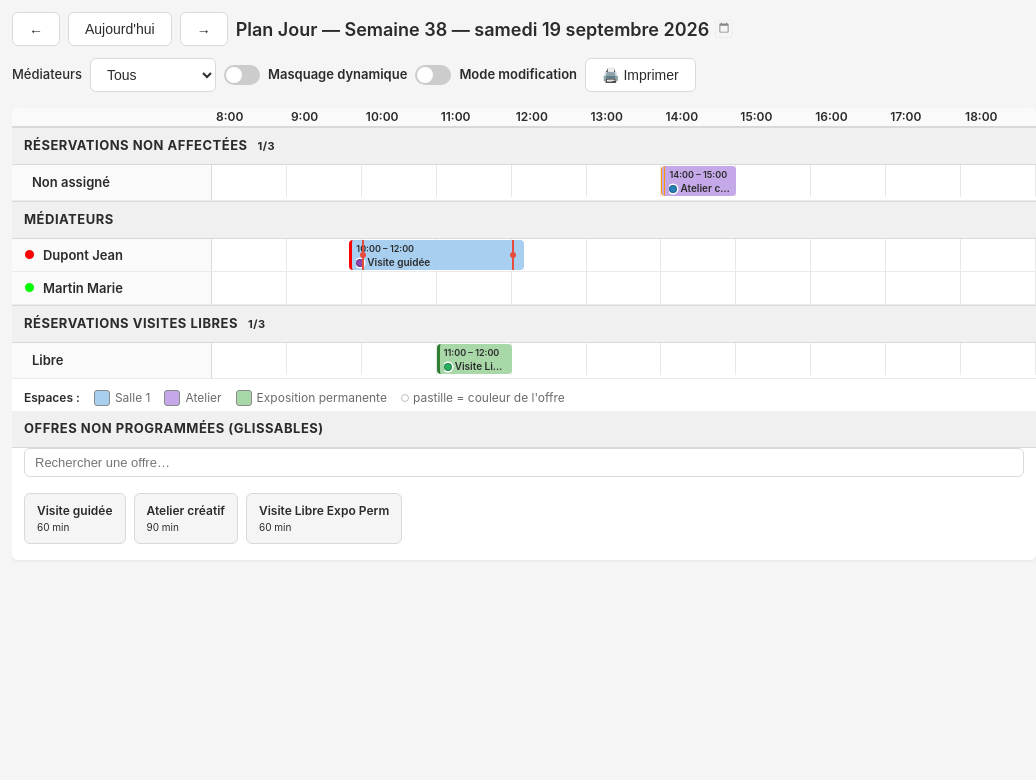
Test: DailyView › offer search filter › should show empty state message when no offer matches
The image size is (1036, 780).
Type "zzz-no-match" into the field with id "daily-offer-search".
click(524, 462); type("zzz-no-match")  # box top-left (24, 448), bottom-right (1024, 476)
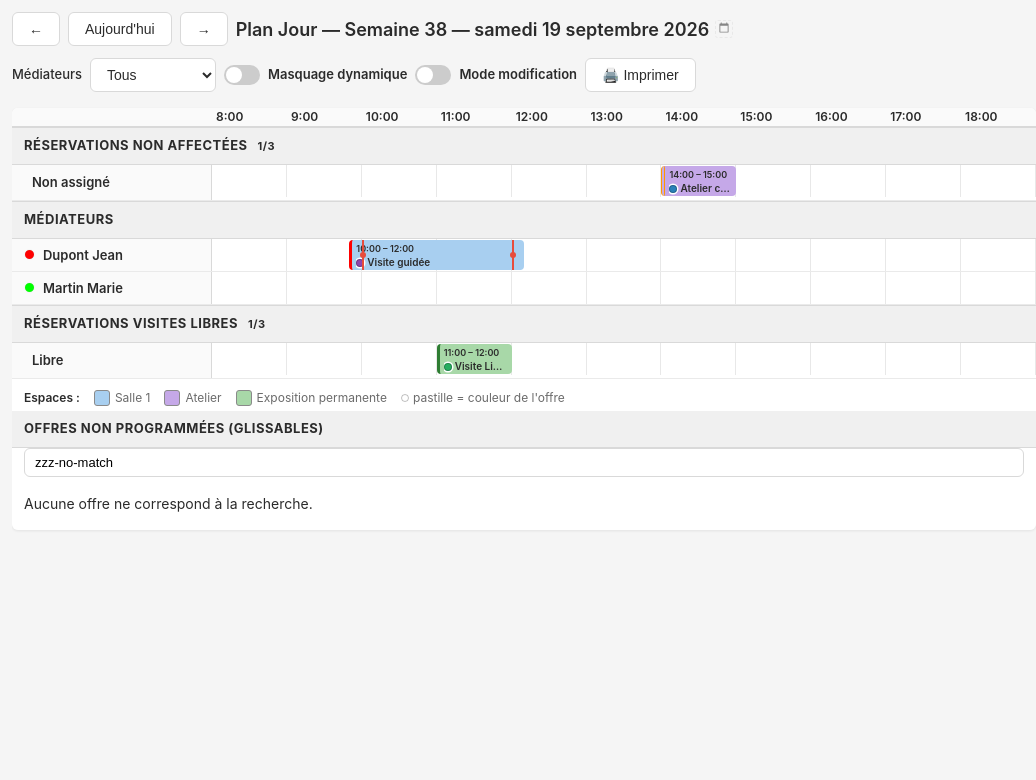
expect the text "Aucune offre ne correspond à la recherche." is shown: met, box top-left (24, 492), bottom-right (313, 514)
